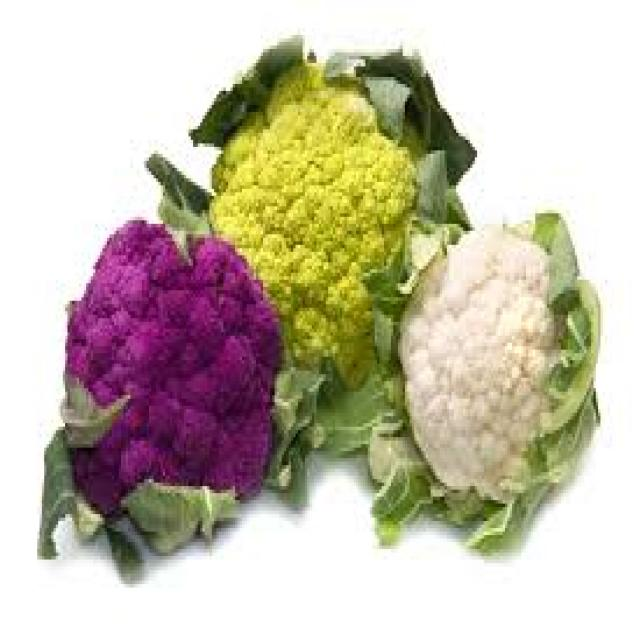organic waste: (144, 28, 475, 455), (35, 143, 316, 577), (368, 182, 598, 549)
